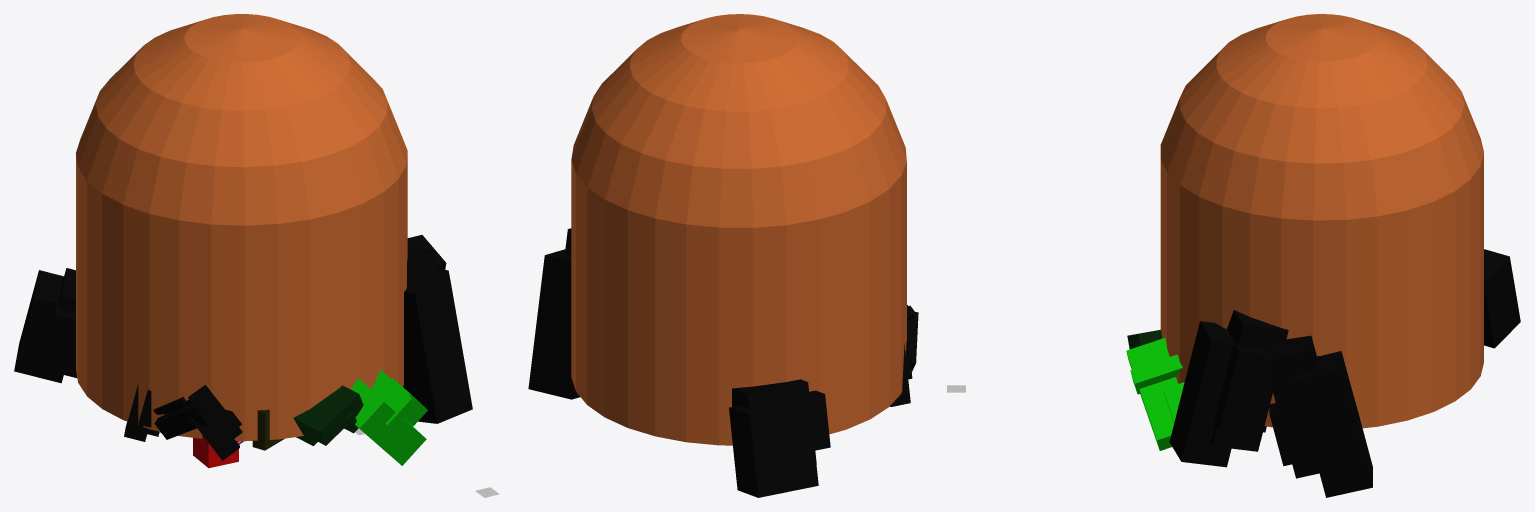
Rendered from BossStage.obj.
3 renders of one model, left to right at view 1: azimuth 30°, elevation 25°; view 2: azimuth 150°, elevation 25°; view 3: azimuth 270°, elevation 25°, orthographic. The views are drawn at different scales.
Visible parts, largest first — view 1: 球_球.002, 立方体.010_立方体.014, 立方体.001_立方体.005, 立方体.004_立方体.008, 立方体.005_立方体.009, 立方体.009_立方体.013, 立方体.008_立方体.012, 立方体.007_立方体.011, 立方体, 立方体.006; view 2: 球_球.002, 立方体.001_立方体.005, 立方体.002, 立方体.007_立方体.011, 立方体.008_立方体.012; view 3: 球_球.002, 立方体.010_立方体.014, 立方体.002, 立方体.004_立方体.008, 立方体.001_立方体.005.
Part boxes in pixels (bbox=[...]): 球_球.002: bbox=[76, 14, 407, 441]; 立方体.010_立方体.014: bbox=[403, 247, 472, 423]; 立方体.001_立方体.005: bbox=[14, 268, 77, 383]; 立方体.004_立方体.008: bbox=[351, 369, 427, 465]; 立方体.005_立方体.009: bbox=[293, 385, 363, 445]; 立方体.009_立方体.013: bbox=[187, 385, 242, 460]; 立方体.008_立方体.012: bbox=[153, 396, 206, 439]; 立方体.007_立方体.011: bbox=[124, 384, 159, 441]; 立方体: bbox=[193, 435, 238, 468]; 立方体.006: bbox=[252, 409, 284, 450]; 球_球.002: bbox=[571, 14, 906, 445]; 立方体.001_立方体.005: bbox=[729, 379, 830, 497]; 立方体.002: bbox=[528, 228, 579, 399]; 立方体.007_立方体.011: bbox=[890, 340, 912, 406]; 立方体.008_立方体.012: bbox=[907, 312, 918, 371]; 球_球.002: bbox=[1160, 14, 1483, 428]; 立方体.010_立方体.014: bbox=[1169, 310, 1288, 467]; 立方体.002: bbox=[1264, 335, 1372, 497]; 立方体.004_立方体.008: bbox=[1126, 337, 1184, 450]; 立方体.001_立方体.005: bbox=[1484, 249, 1520, 348].
Bounding box in the file's own units: 433 × 487 × 656.
